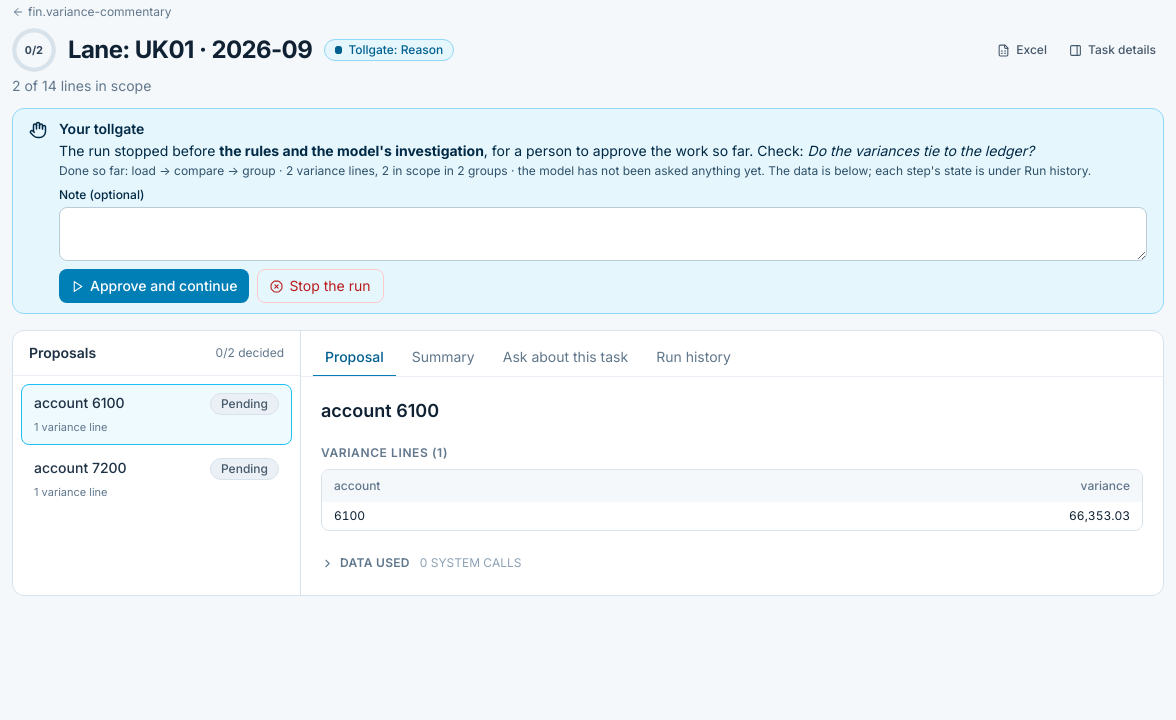
it: Tollgate › needs a reason to stop the run
The width and height of the screenshot is (1176, 720).
Later steps or results of the test are not shown.
Click the button "Stop the run": (320,286) [257, 269, 384, 303]
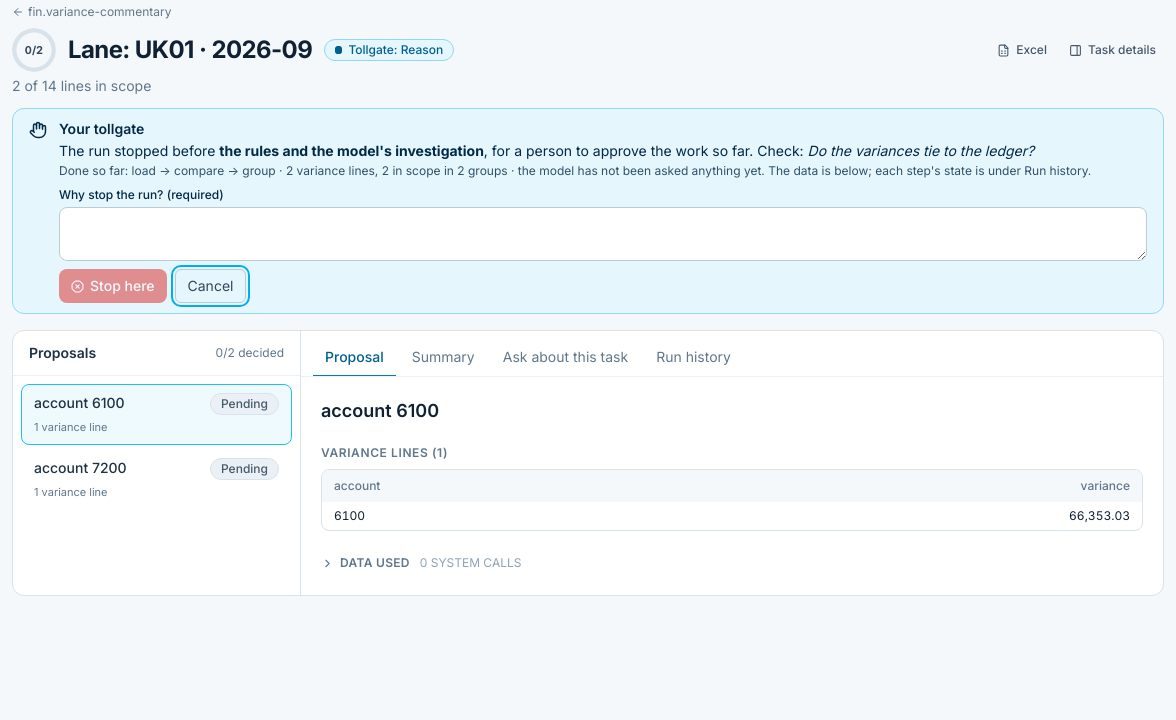
Now the button "Stop here" is disabled, box [59, 269, 166, 303]
